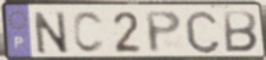2: (111, 11, 143, 55)
B: (222, 9, 259, 54)
C: (183, 8, 223, 55), (71, 10, 107, 55)
N: (31, 9, 71, 56)
P: (143, 9, 184, 55)
